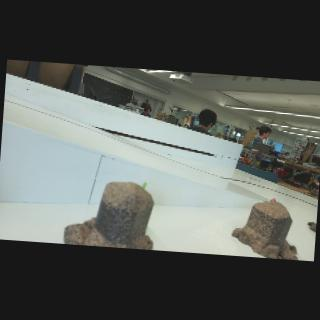teletubby: (142, 182, 146, 189), (270, 198, 276, 202)
